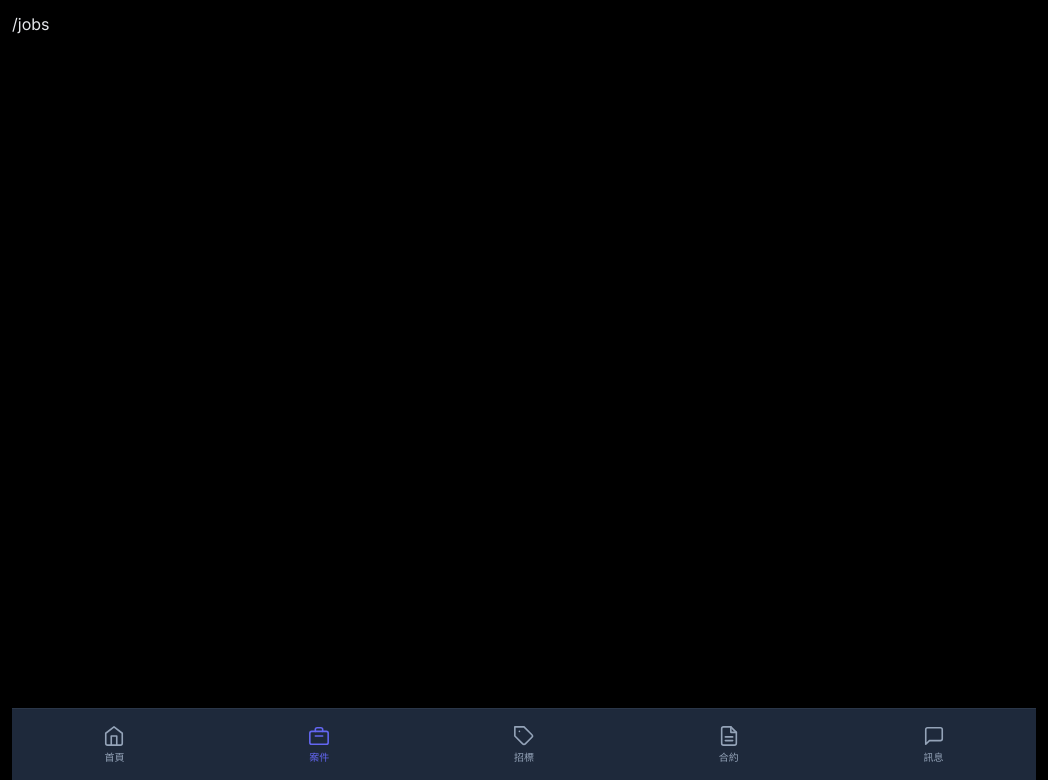
CoverOnesMobileBottomNav › navigates when a tab is clicked
Step 1. Click the button "招標" → (524, 744), box [422,709,626,779]
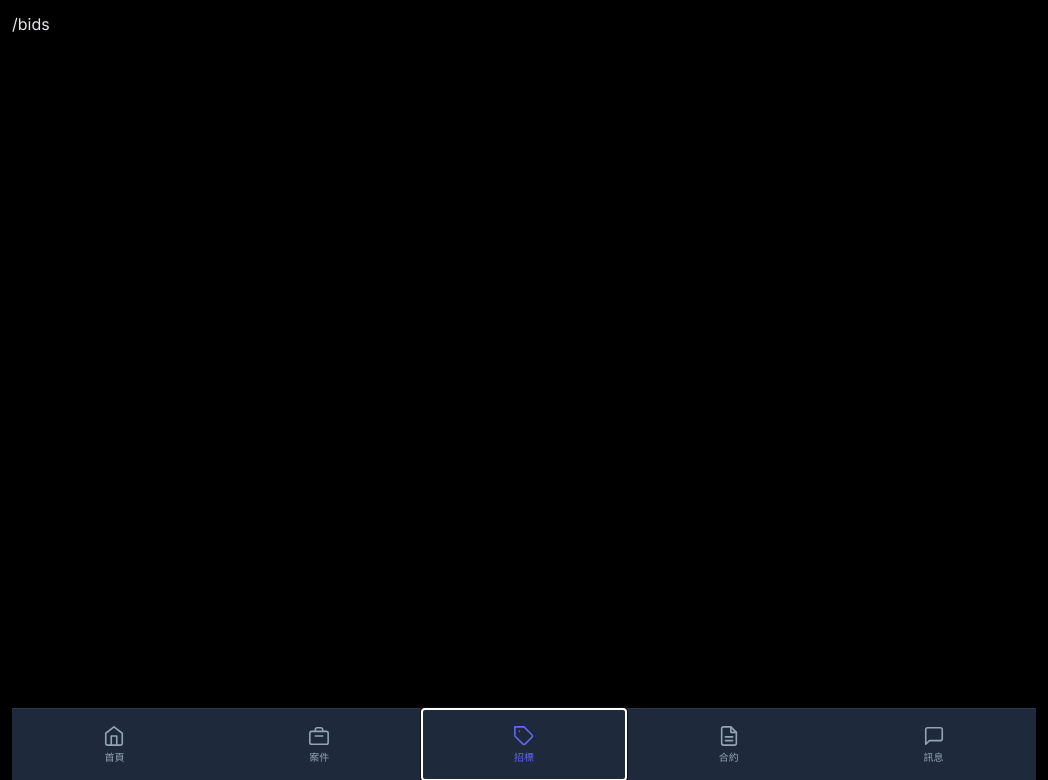
Result: the text with test id "path" reads "/bids" at [12,14,50,34]
